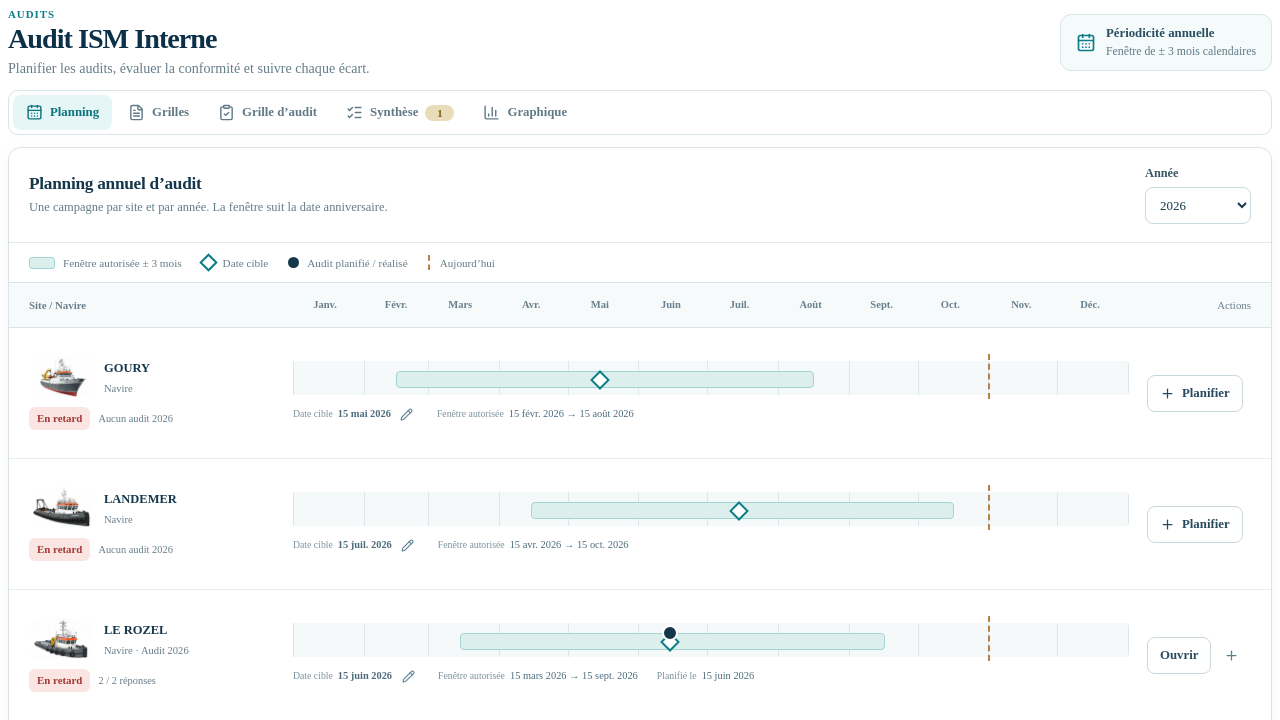
Test case: InternalAuditsPage › confirms model deletion and preserves the existing audit history
The width and height of the screenshot is (1280, 720).
Expected: the heading "Audit ISM Interne" is shown, [8, 23, 216, 54]
Step 1. Click the button "Grilles" → (159, 112), box [115, 95, 202, 130]
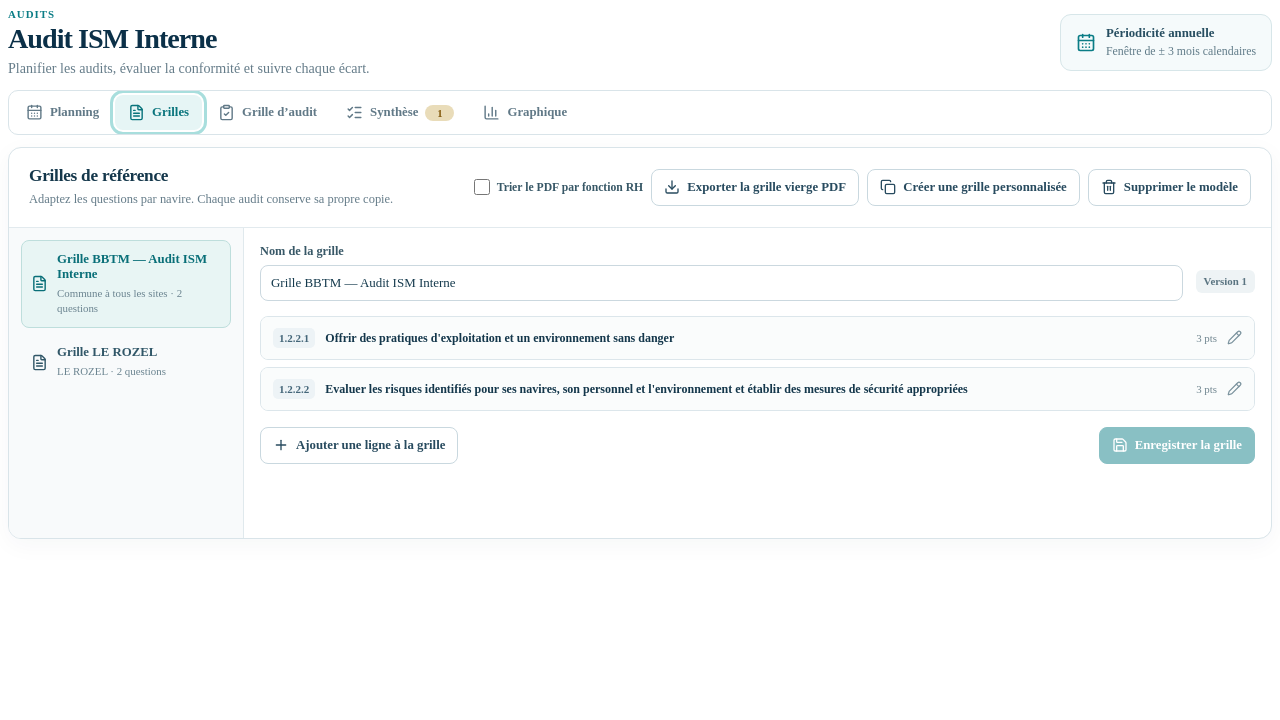
Step 2. Click the button "Supprimer le modèle" → (1169, 187), box [1088, 169, 1251, 206]
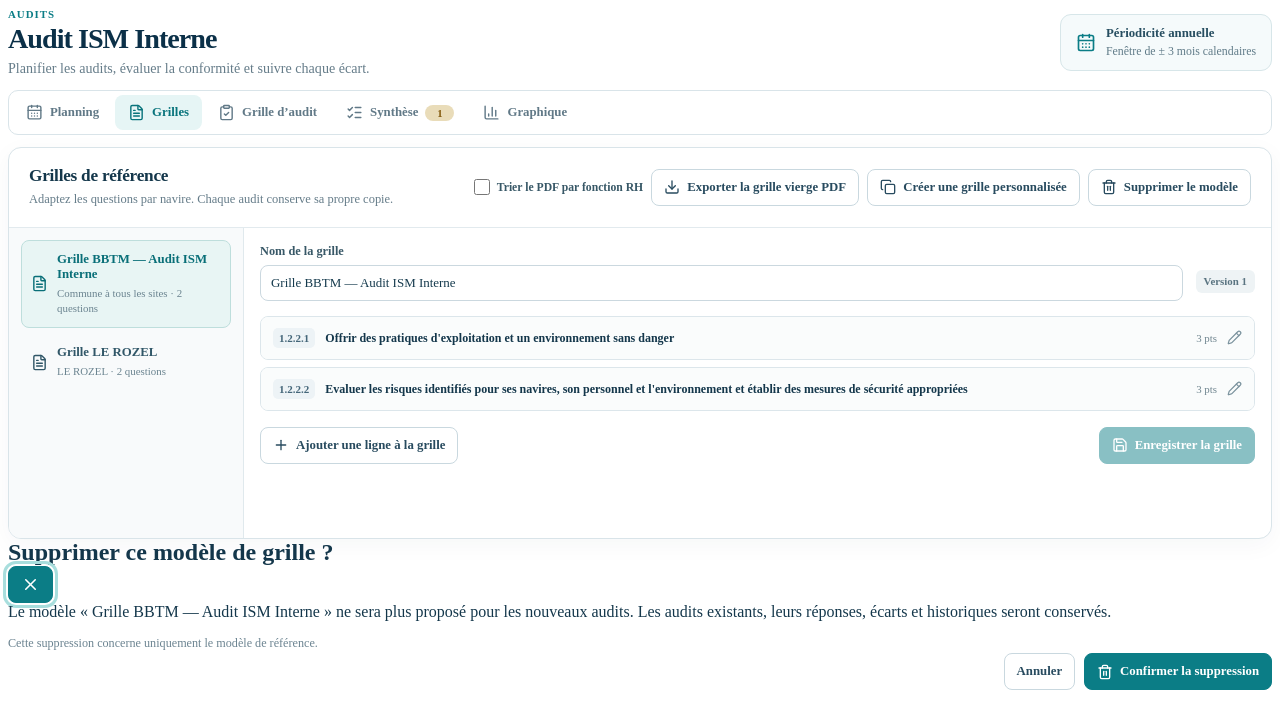
Expected: the dialog shows "Les audits existants, leurs réponses, écarts et historiques seront conservés.", [8, 603, 1111, 620]
Step 3. Click the button "Annuler" → (1039, 672), box [1004, 653, 1075, 690]
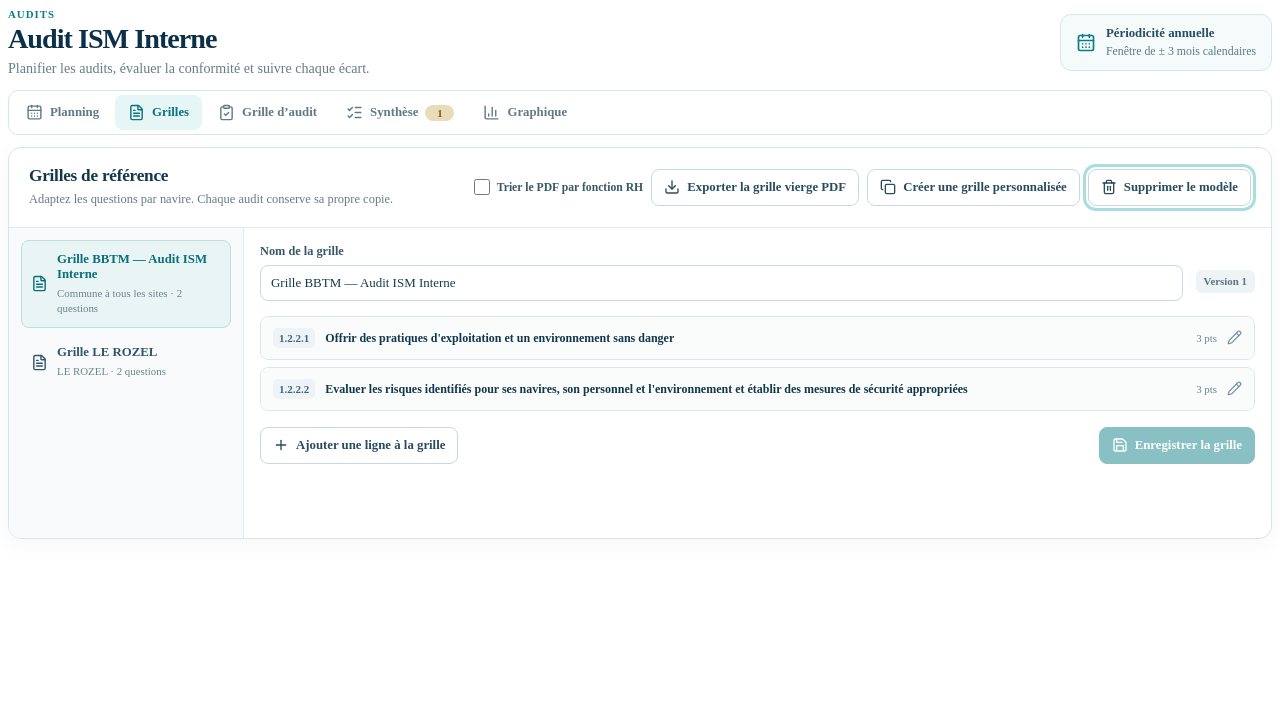
Step 4. Click the button "Supprimer le modèle" → (1169, 187), box [1088, 169, 1251, 206]
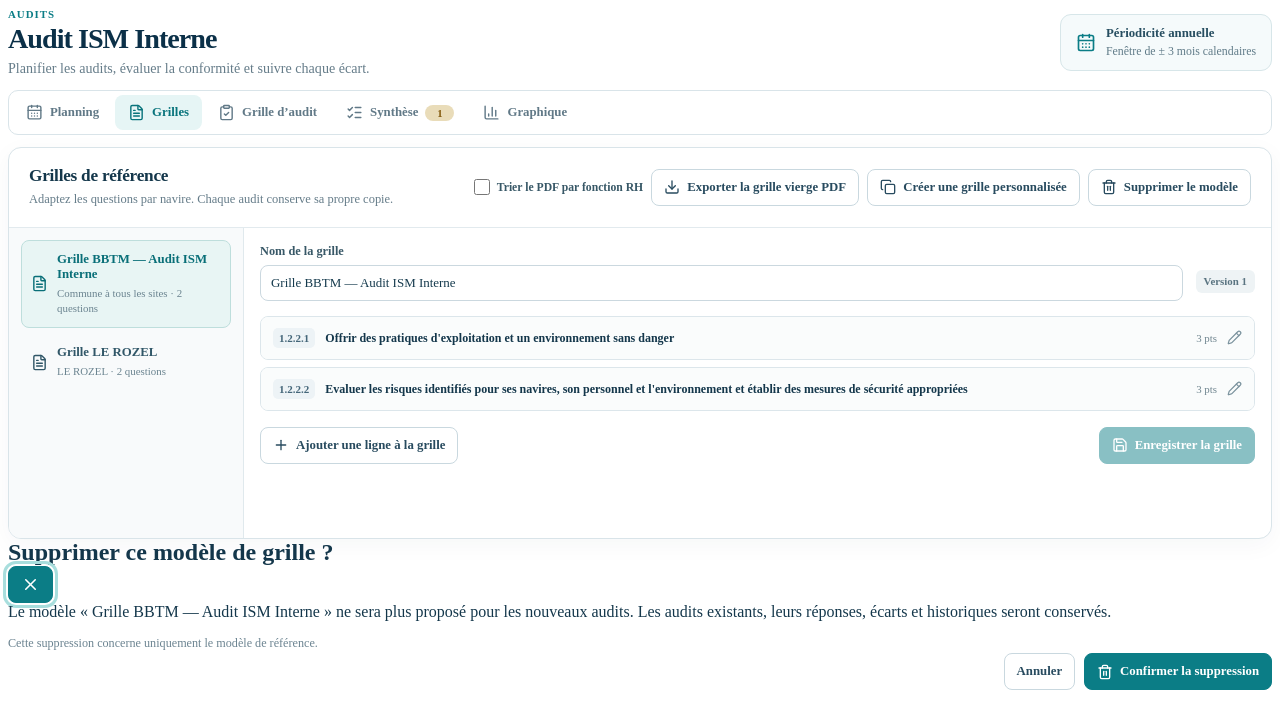
Step 5. Click the button "Confirmer la suppression" → (1178, 672), box [1084, 653, 1272, 690]
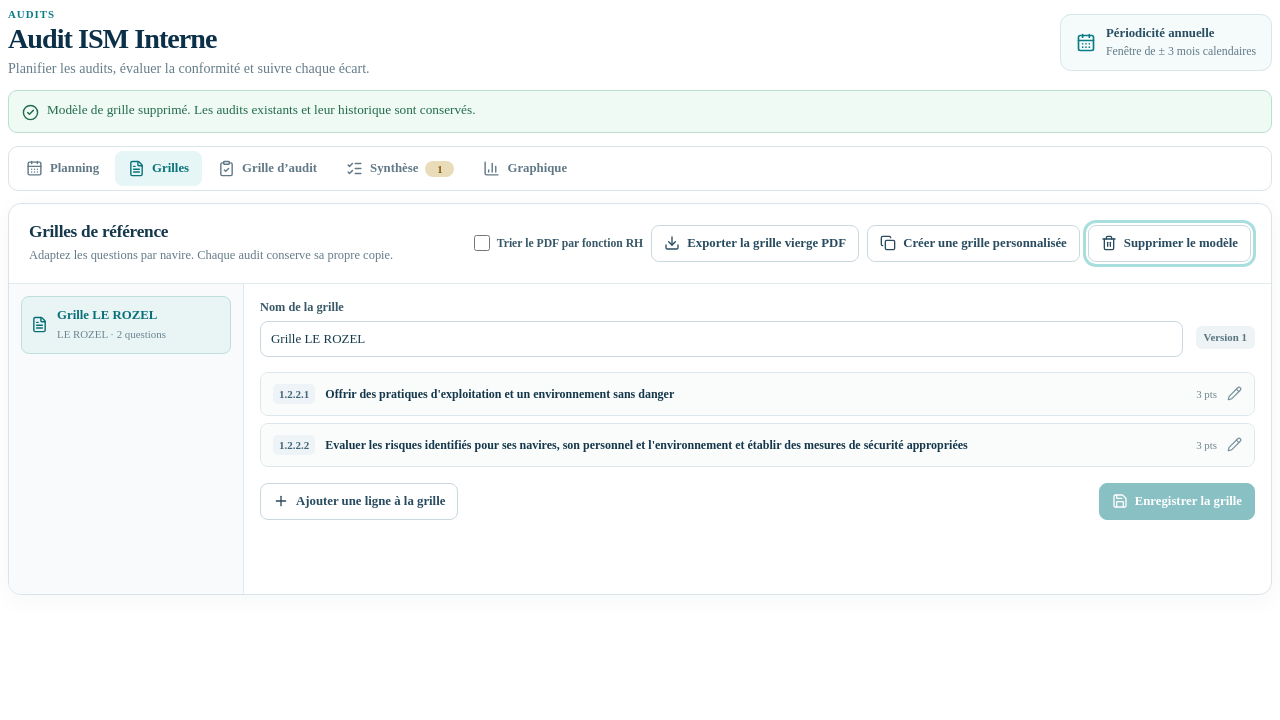
Expected: the dialog is gone
Expected: the button "Grille BBTM — Audit ISM Interne" is gone
Step 6. Click the button "Grille d’audit" → (268, 168), box [205, 151, 330, 186]
(page scrolled)
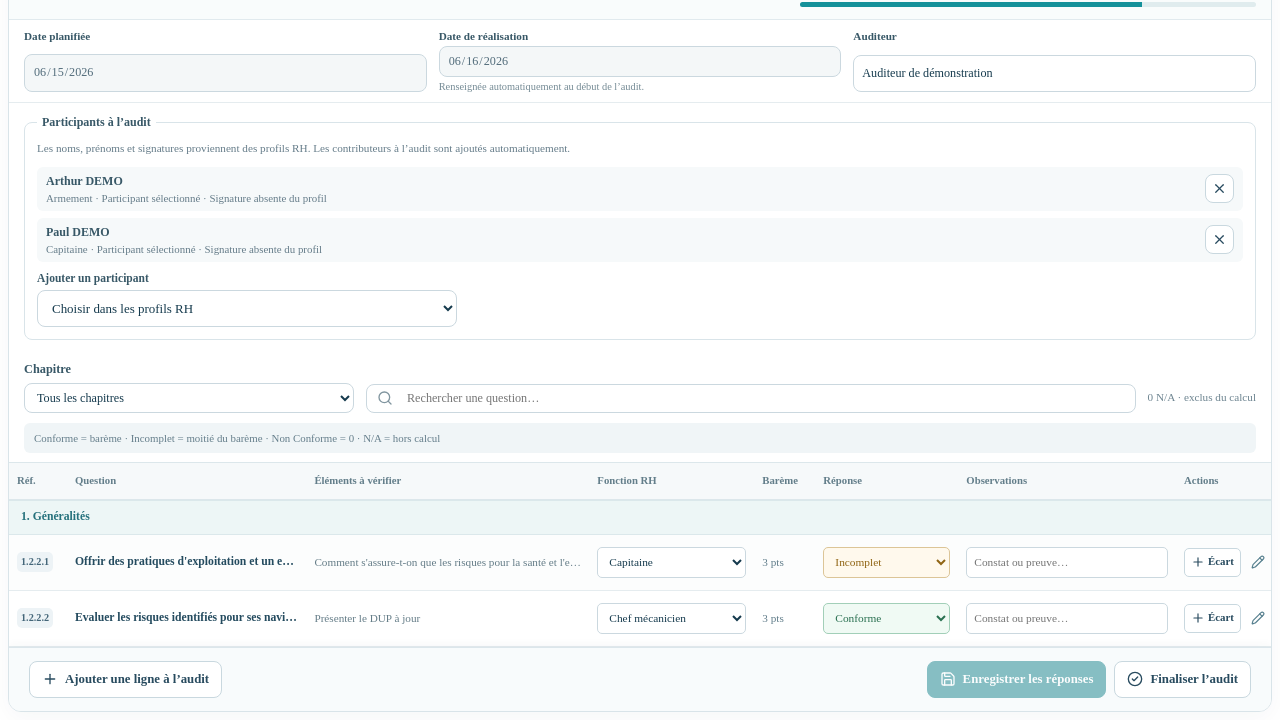
Expected: the table named "Grille d’audit LE ROZEL 2026" is shown, [9, 462, 1271, 647]
